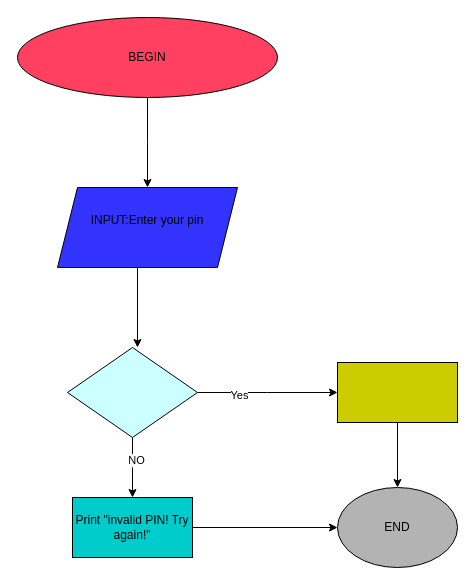
The diagram is 475 pixels wide and 585 high, and some of its shapes have lost their labels. The centre of each missing label's shape, as x and y in pixels:
Is the password correct?: point 132,392
Print"Access granted: point 397,392
